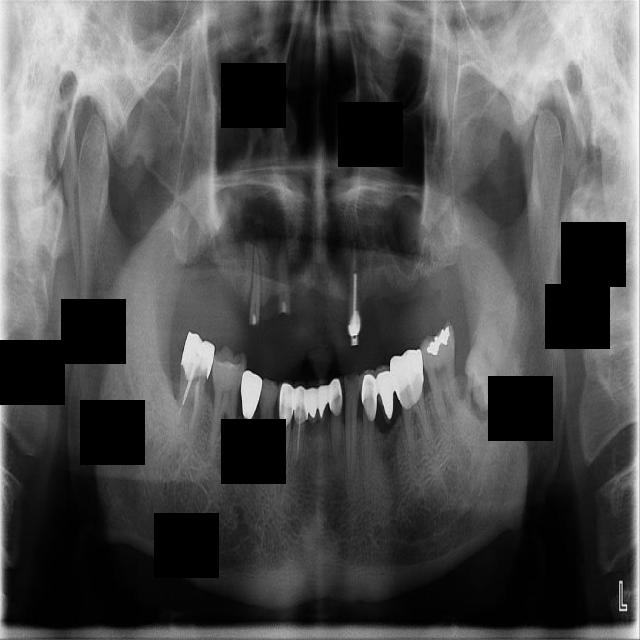52: (346, 343, 447, 436), (274, 372, 345, 428), (416, 318, 460, 374), (177, 329, 219, 383), (234, 369, 265, 421), (348, 307, 363, 349)
73: (161, 361, 212, 467), (233, 408, 258, 489), (272, 419, 292, 499), (347, 221, 363, 313), (286, 416, 307, 479), (620, 618, 632, 624)
Biomet 3i Implant: (454, 271, 520, 417)
Blue Sky Bio Implant: (415, 318, 475, 451)
Implant: (160, 330, 219, 470)
